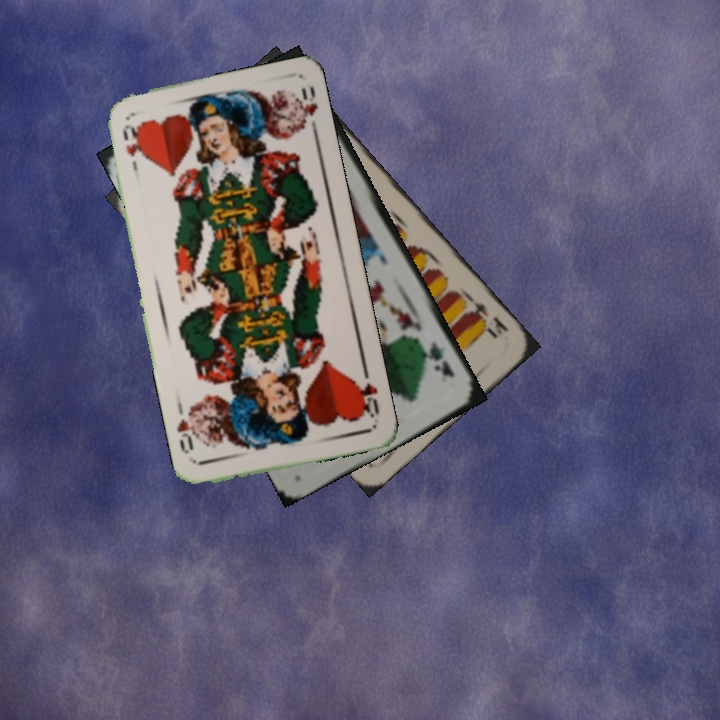E10: (463, 294, 511, 342)
GK: (417, 337, 457, 381)
HO: (353, 364, 382, 421), (118, 120, 141, 177)
